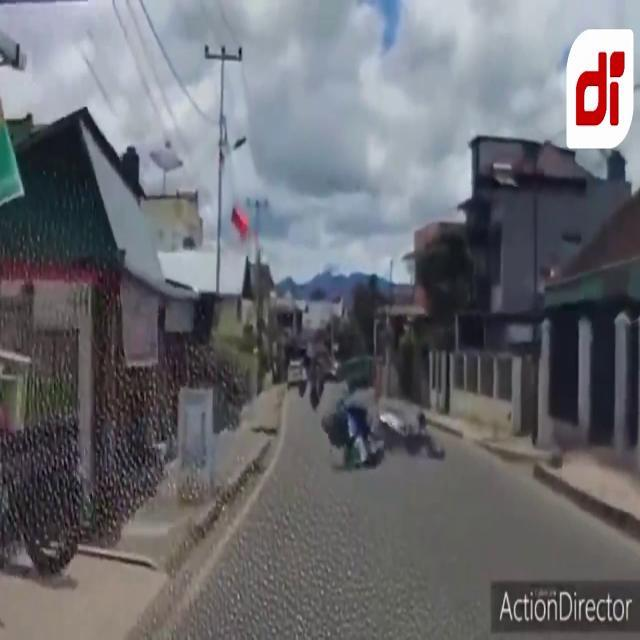multiple_accident: (307, 372, 485, 493)
